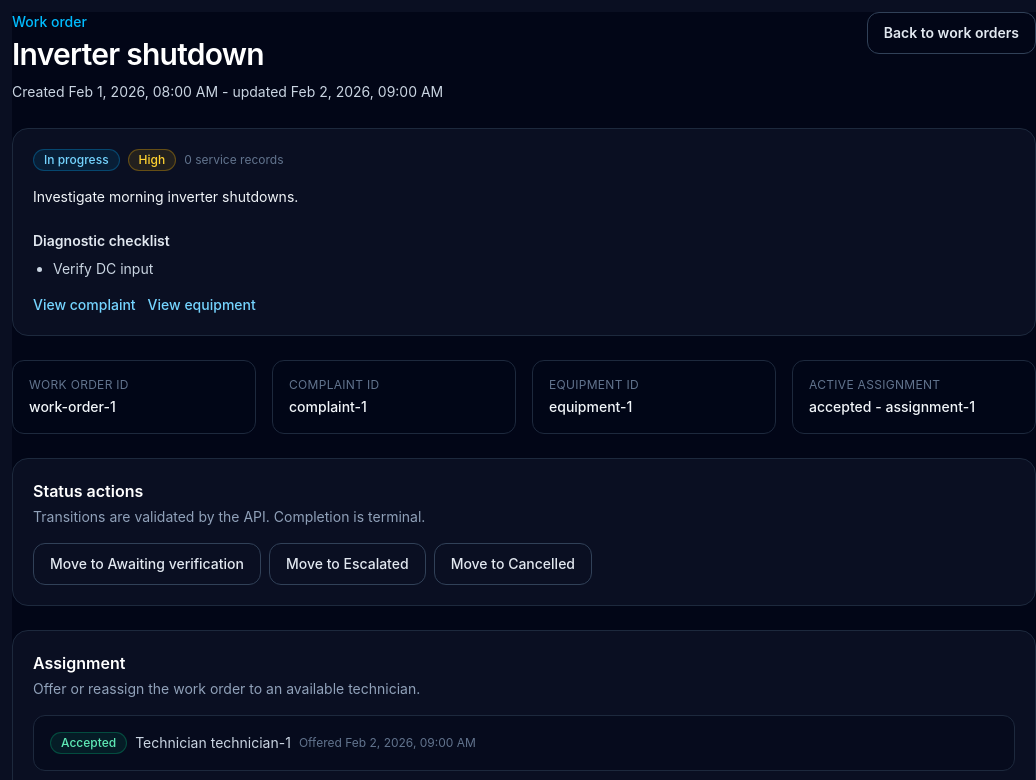
Test: administrator moves a work order through the lifecycle
The image size is (1036, 780).
expect the heading "Status actions" is shown: met, box left=33, top=481, right=143, bottom=501
Click the button "Move to Awaiting verification" at coordinates (147, 564), box left=33, top=543, right=261, bottom=585
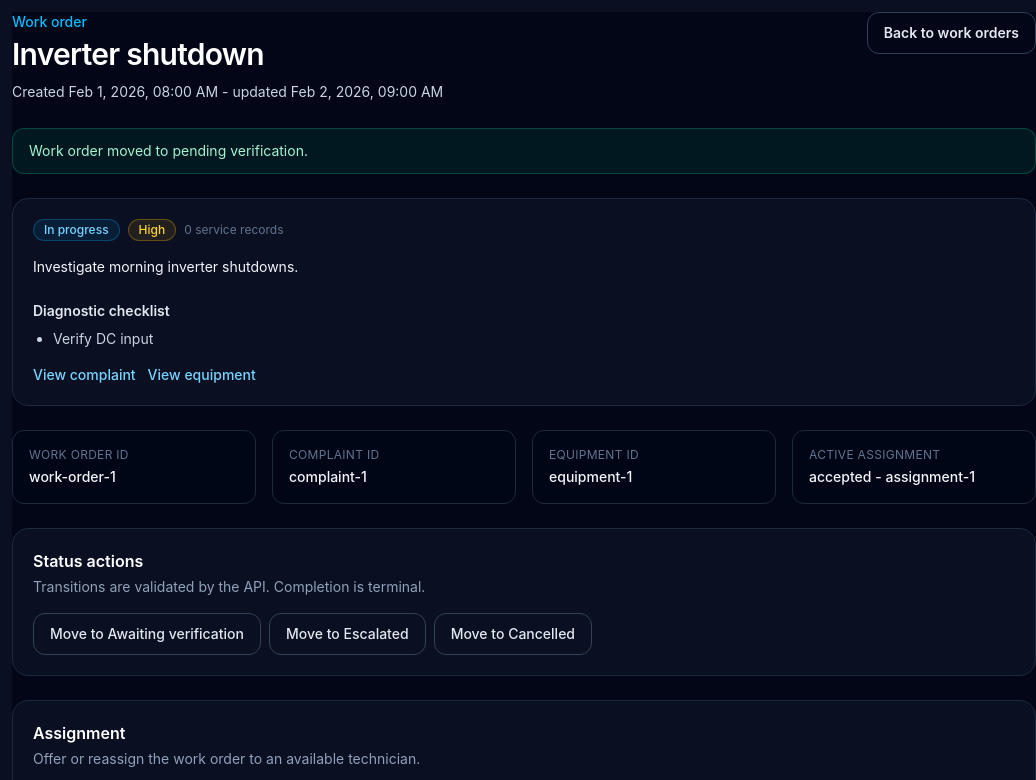
expect the text "Work order moved to pending verification." is shown: met, box left=12, top=128, right=1035, bottom=174
